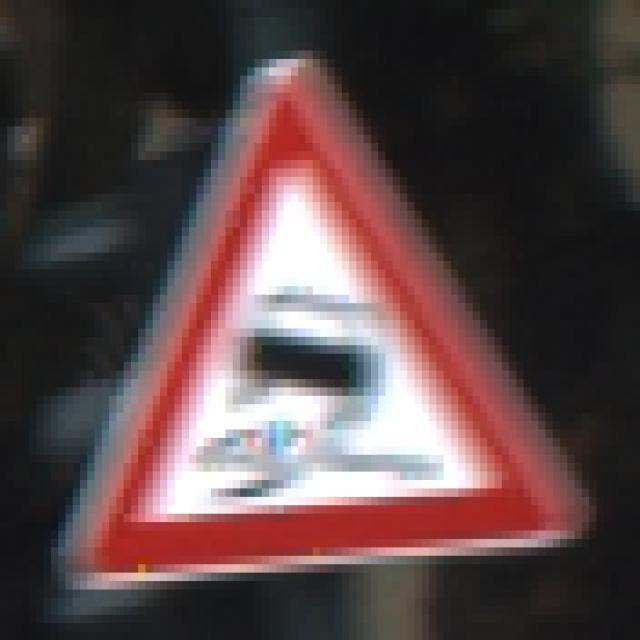slippery road: (67, 59, 592, 584)
